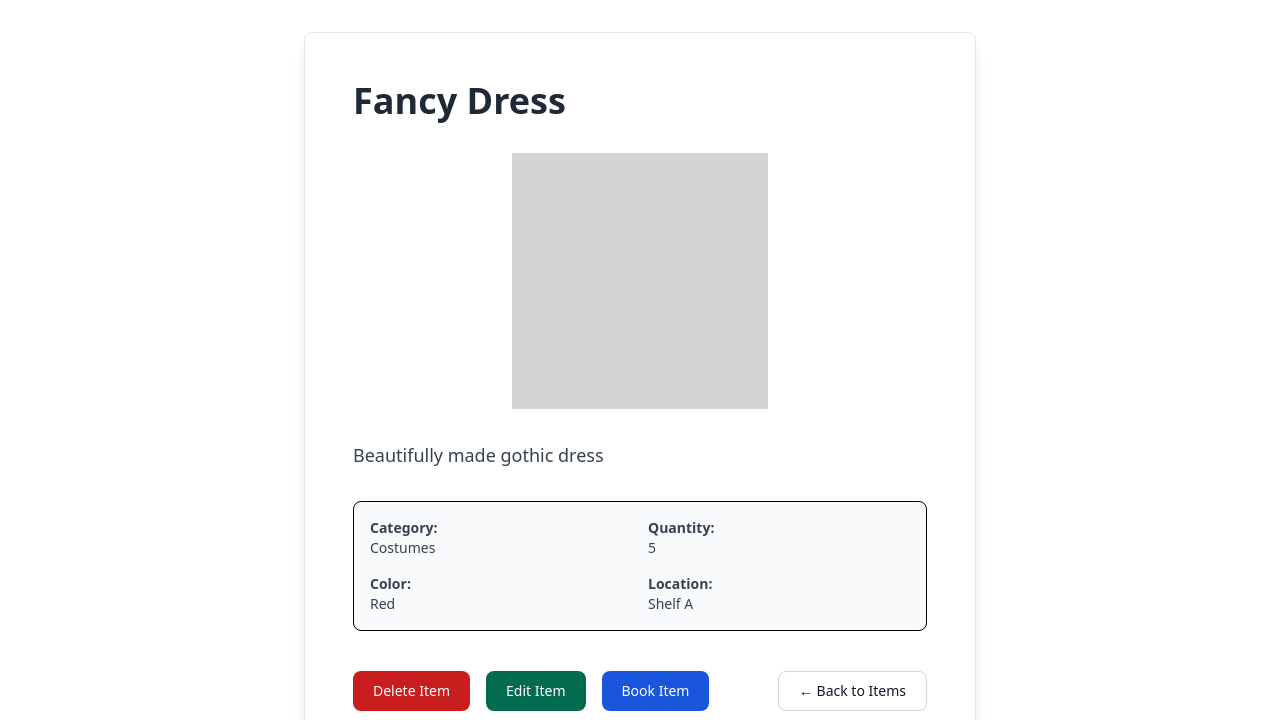
Test: ItemDetail Page › opens delete confirmation modal when Delete button is clicked
Expected: the heading "Fancy Dress" is shown, [353,76,566,125]
# Click the delete button
What coordinates should you click on to do the following:
click the button "Delete Item"
I would click on:
 (412, 691)
Its box is [353,671,470,711].
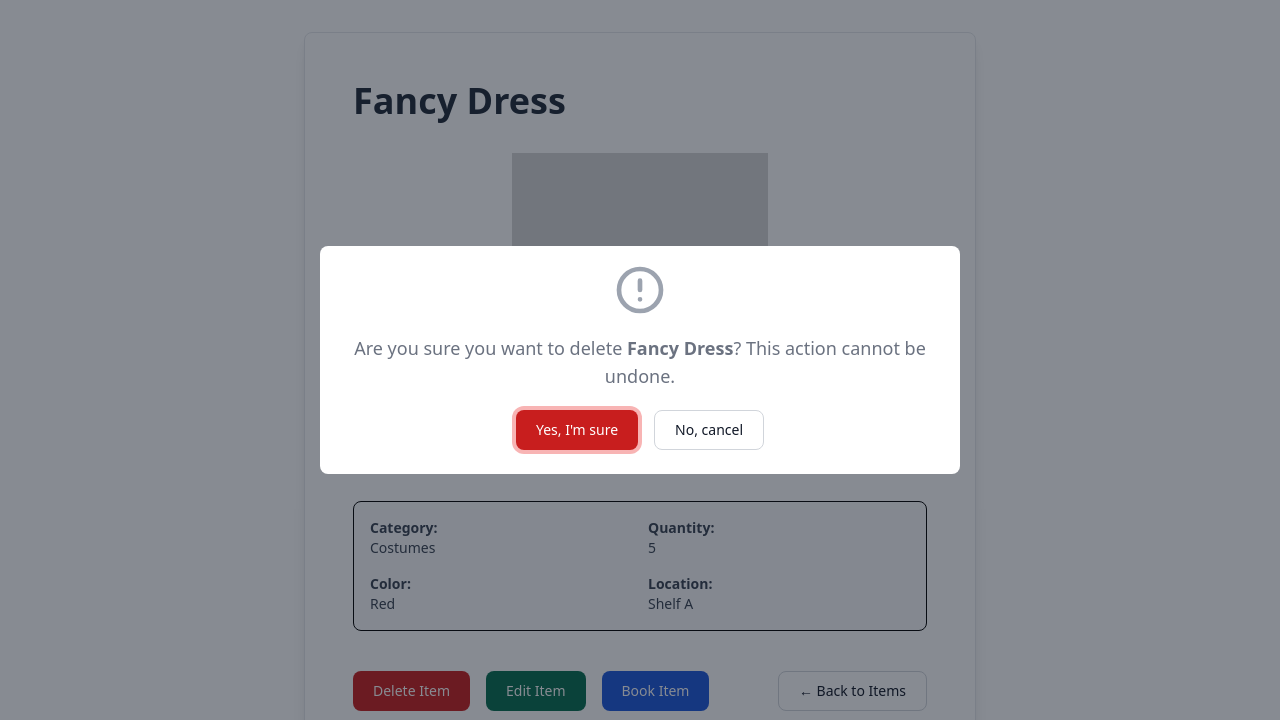
Expected: the heading "Are you sure you want to delete" is shown, [354,336,627,360]
Expected: the text "Fancy Dress" is shown, [627,336,733,360]
Expected: the button "Yes, I'm sure" is shown, [516,410,638,450]
